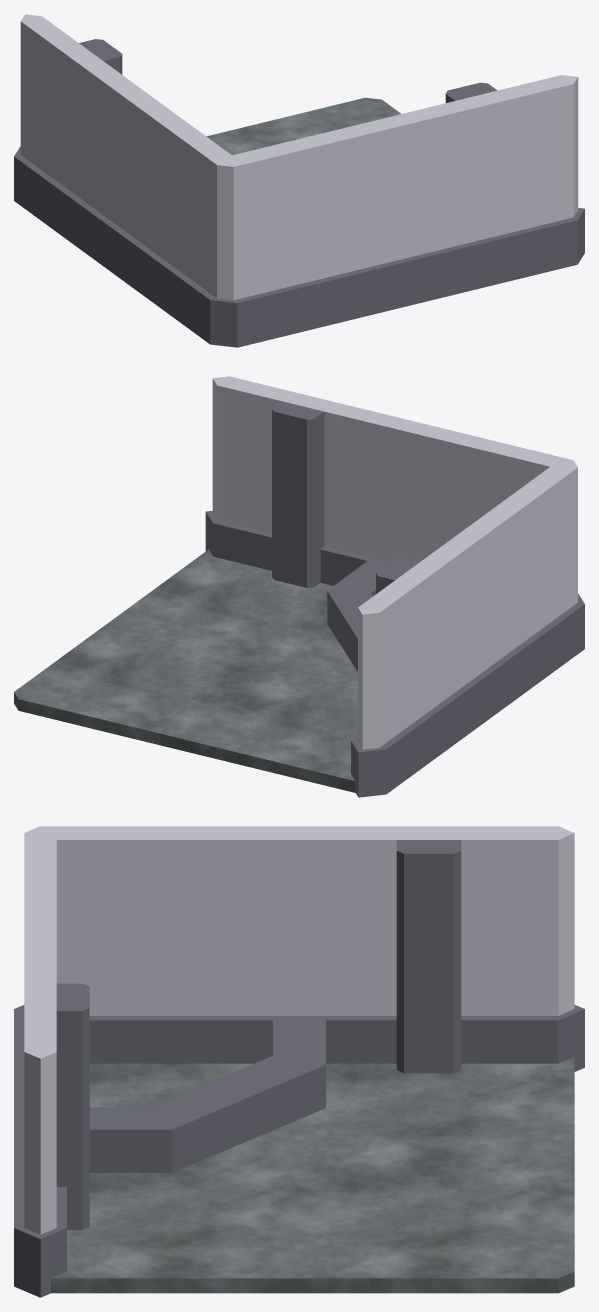
The model's file is corner_01.fbx.
3 renders of one model, top to bottom at view 1: azimuth 30°, elevation 25°; view 2: azimuth 150°, elevation 25°; view 3: azimuth 270°, elevation 25°, orthographic. The views are drawn at different scales.
Visible parts, largest first — view 1: corner_01_0, wall_02_2, wall_02_3, floor_01_1; view 2: floor_01_1, corner_01_0, wall_02_2, wall_02_3, wall_borderCornerDiagonal_4; view 3: floor_01_1, wall_02_3, corner_01_0, wall_02_2, wall_borderCornerDiagonal_4.
Boxes of the visible parts, left/top/right/bottom form: corner_01_0: left=112, top=86, right=407, bottom=347; wall_02_2: left=389, top=75, right=584, bottom=305; wall_02_3: left=14, top=14, right=139, bottom=272; floor_01_1: left=206, top=97, right=400, bottom=155; floor_01_1: left=14, top=549, right=357, bottom=792; corner_01_0: left=383, top=418, right=584, bottom=721; wall_02_2: left=205, top=376, right=405, bottom=587; wall_02_3: left=351, top=533, right=485, bottom=797; wall_borderCornerDiagonal_4: left=327, top=561, right=385, bottom=671; floor_01_1: left=51, top=1057, right=574, bottom=1293; wall_02_3: left=284, top=826, right=584, bottom=1073; corner_01_0: left=14, top=826, right=314, bottom=1122; wall_02_2: left=14, top=935, right=89, bottom=1297; wall_borderCornerDiagonal_4: left=18, top=1016, right=325, bottom=1172.
Size of the model in its own units: 22.05 by 10 by 22.05.
